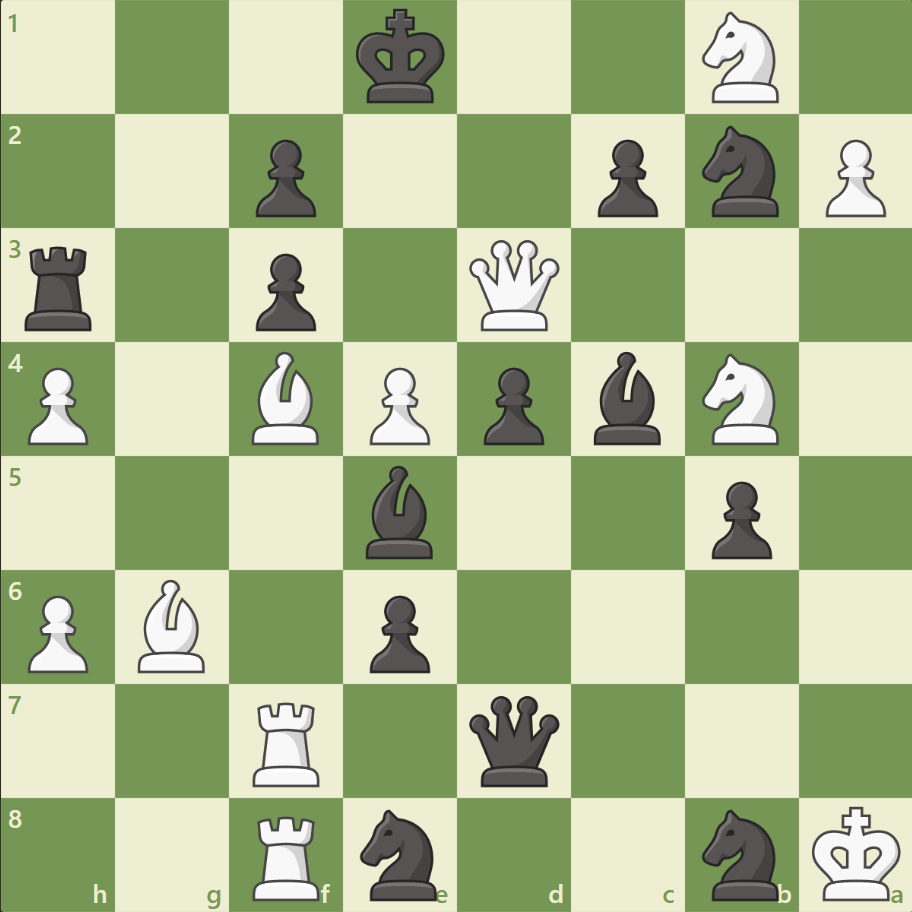B: (131, 574, 215, 676), (244, 347, 328, 449)
K: (806, 798, 906, 906)
N: (692, 7, 789, 110), (692, 348, 789, 450)
P: (20, 586, 95, 677), (20, 359, 95, 450), (361, 359, 435, 450), (815, 132, 889, 223)
Q: (464, 236, 563, 335)
R: (246, 806, 329, 904), (246, 693, 329, 790)
b: (358, 460, 442, 563), (585, 347, 669, 449)
k: (351, 4, 451, 112)
n: (351, 802, 449, 904), (692, 802, 789, 904), (692, 121, 789, 223)
p: (701, 473, 776, 564), (474, 359, 549, 450), (247, 246, 322, 337), (247, 132, 322, 223), (361, 586, 435, 677), (588, 132, 662, 223)
q: (464, 690, 563, 789)
r: (19, 239, 102, 336)
